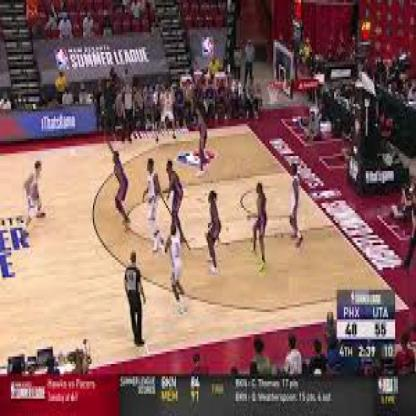basketball: (31, 188, 39, 201)
rim: (268, 79, 280, 92)
